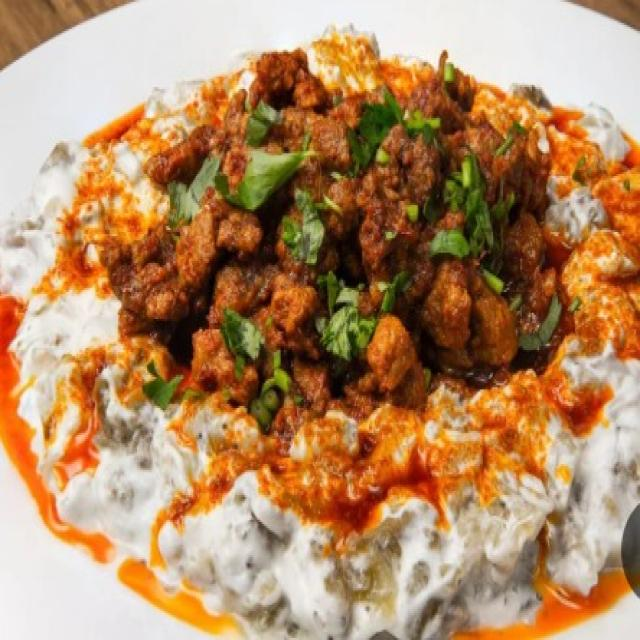ana_yemek: (0, 21, 639, 638)
